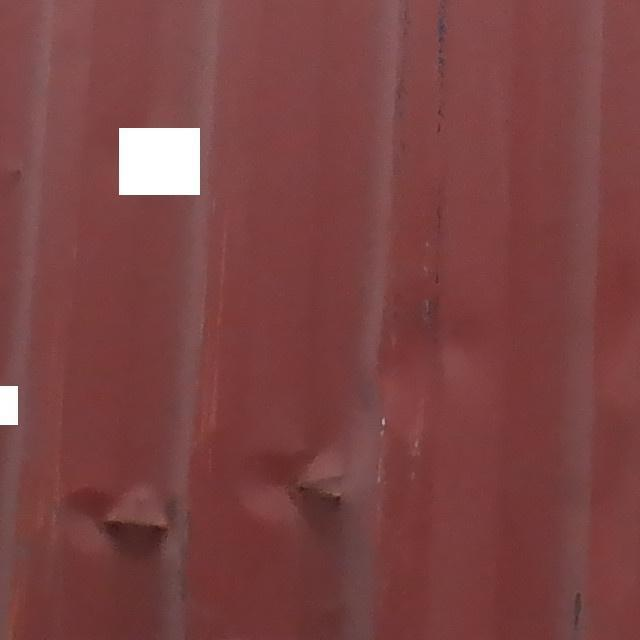dent: (23, 436, 374, 554)
